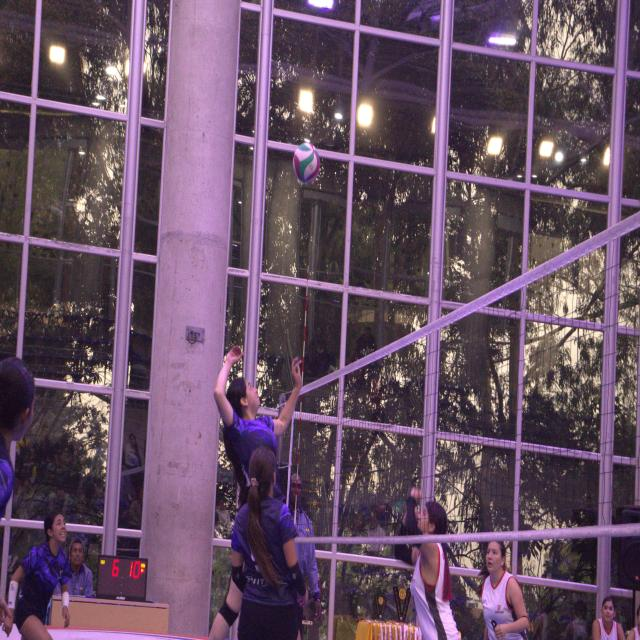volleyball: (293, 141, 319, 183)
